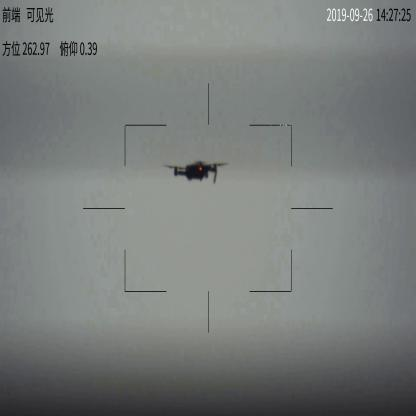uav: (166, 161, 222, 185)
